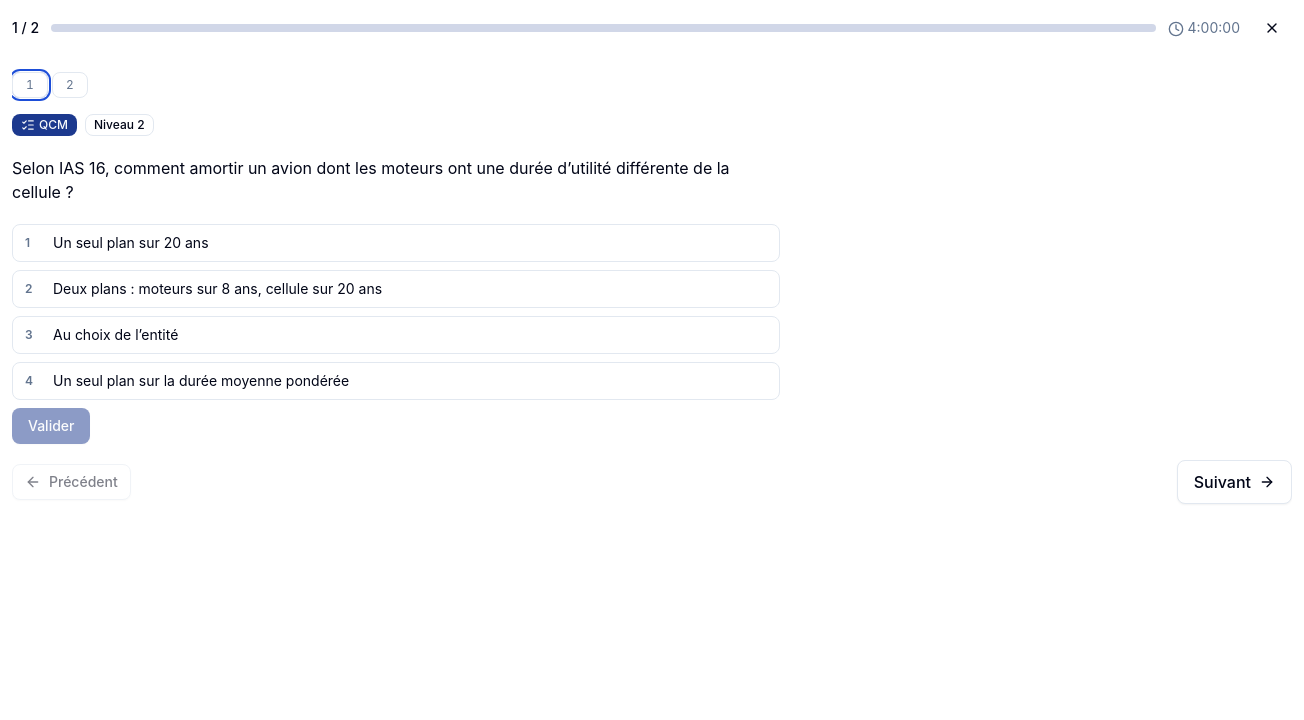
Test: SessionPage › examen blanc : pas de correction pendant l’épreuve, note sur 20 et correction à la fin
Expected: the element named "Temps restant" reads "4:00:00", x1=1188 y1=19 x2=1240 y2=36
Click the radio button labelled "2 Deux plans : moteurs sur 8 ans, cellule sur 20 ans": {"x": 218, "y": 288} x1=12 y1=270 x2=780 y2=308
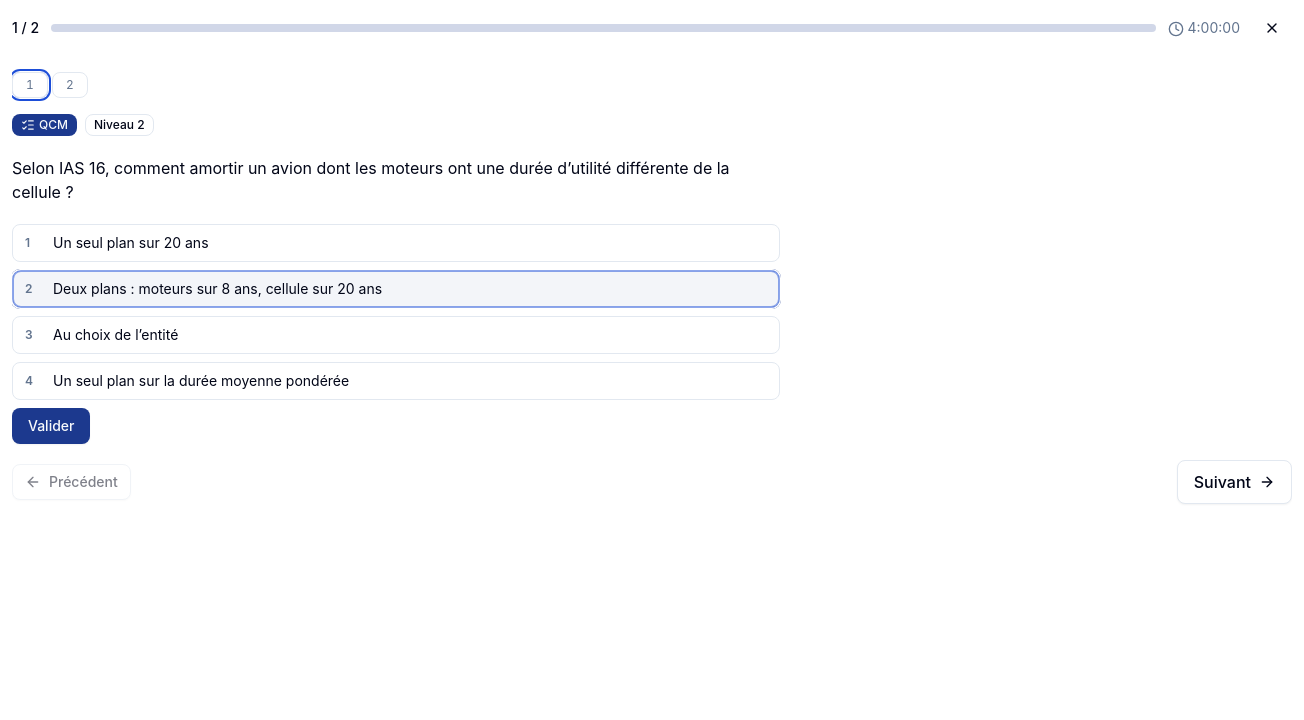
Click the button "Valider": {"x": 51, "y": 426} x1=12 y1=408 x2=90 y2=444
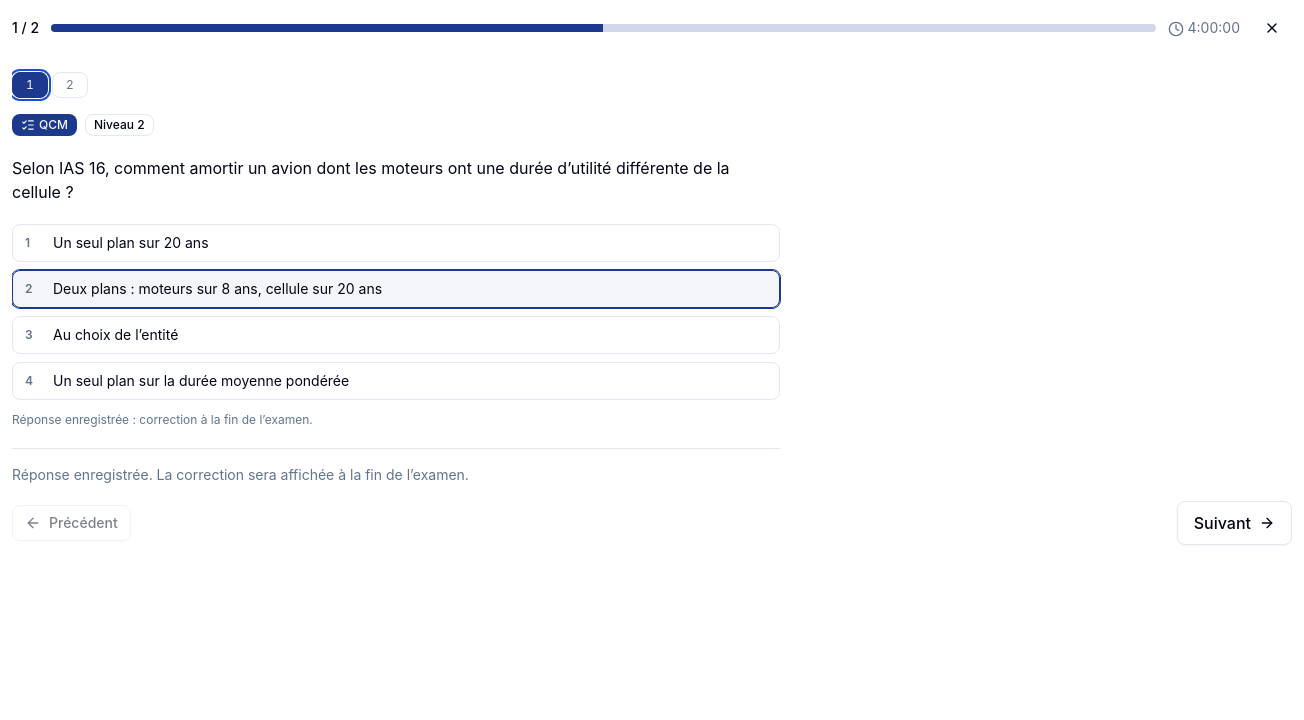
Click the button "Suivant": {"x": 1234, "y": 523} x1=1177 y1=501 x2=1292 y2=545
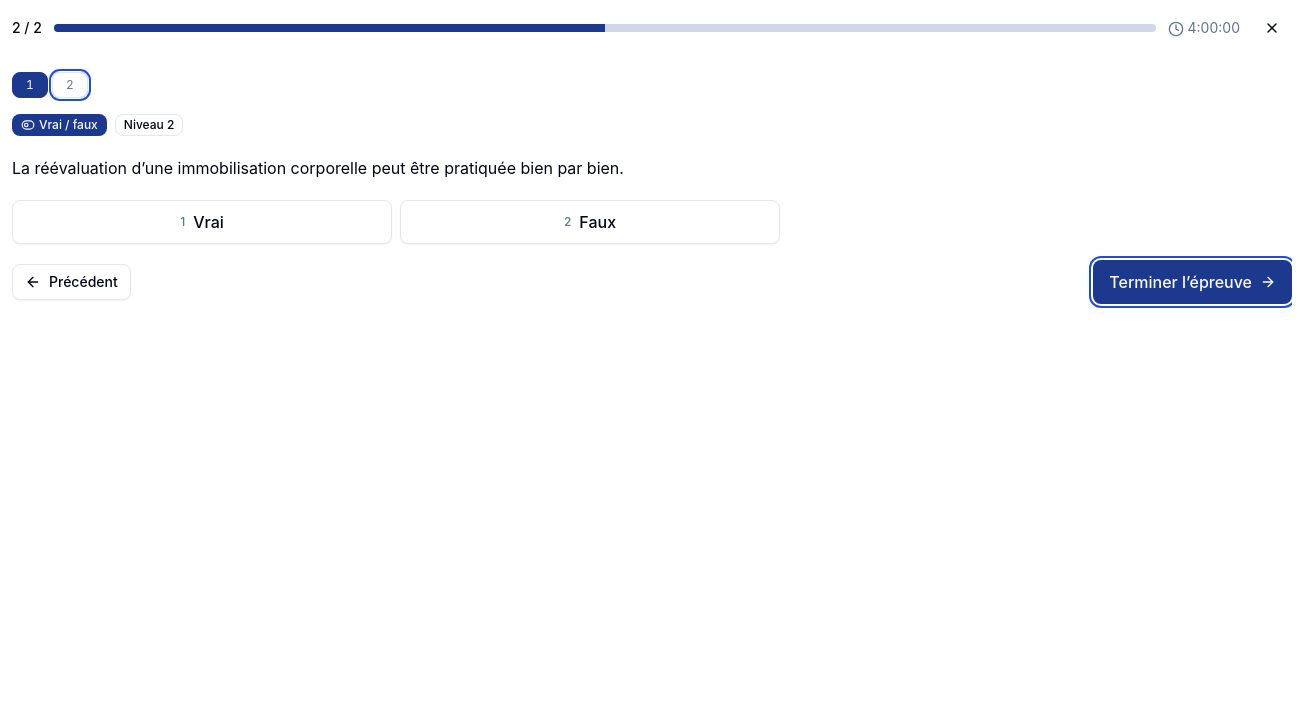
Click the button "2 Faux": {"x": 590, "y": 222} x1=400 y1=200 x2=780 y2=244
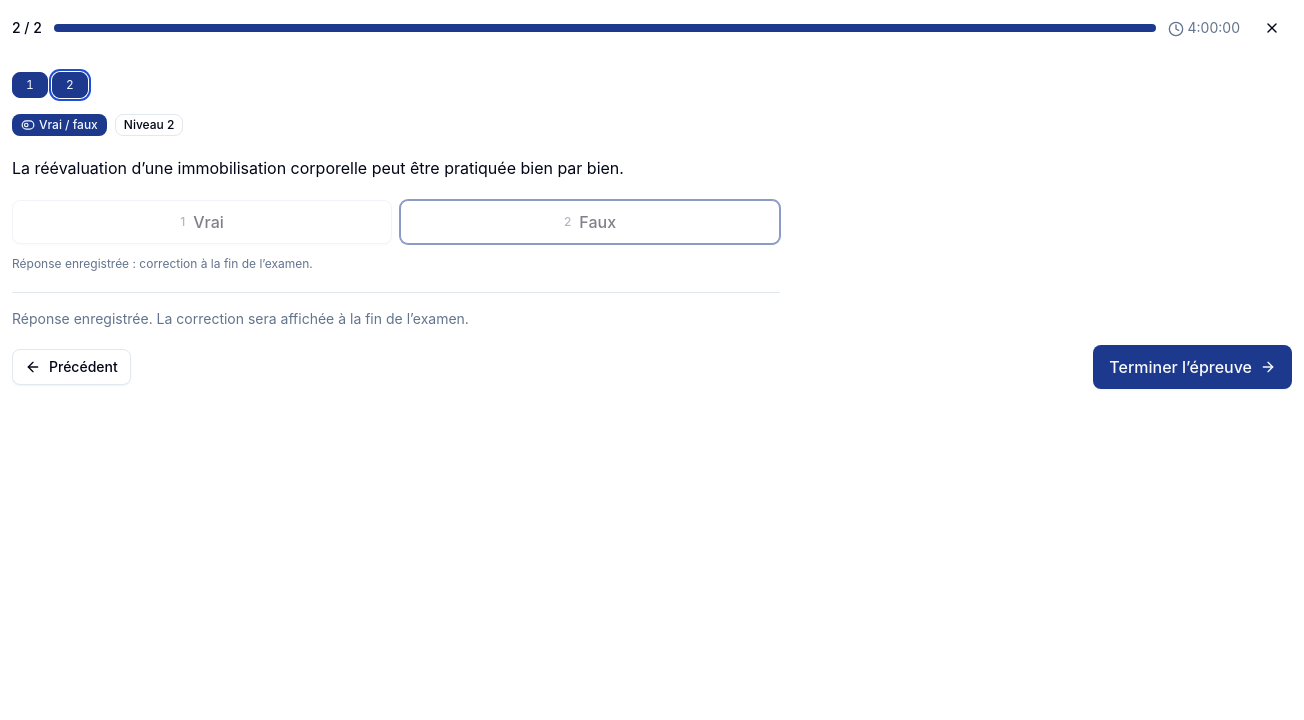
Click the button "Terminer l’épreuve": {"x": 1193, "y": 367} x1=1093 y1=345 x2=1292 y2=389
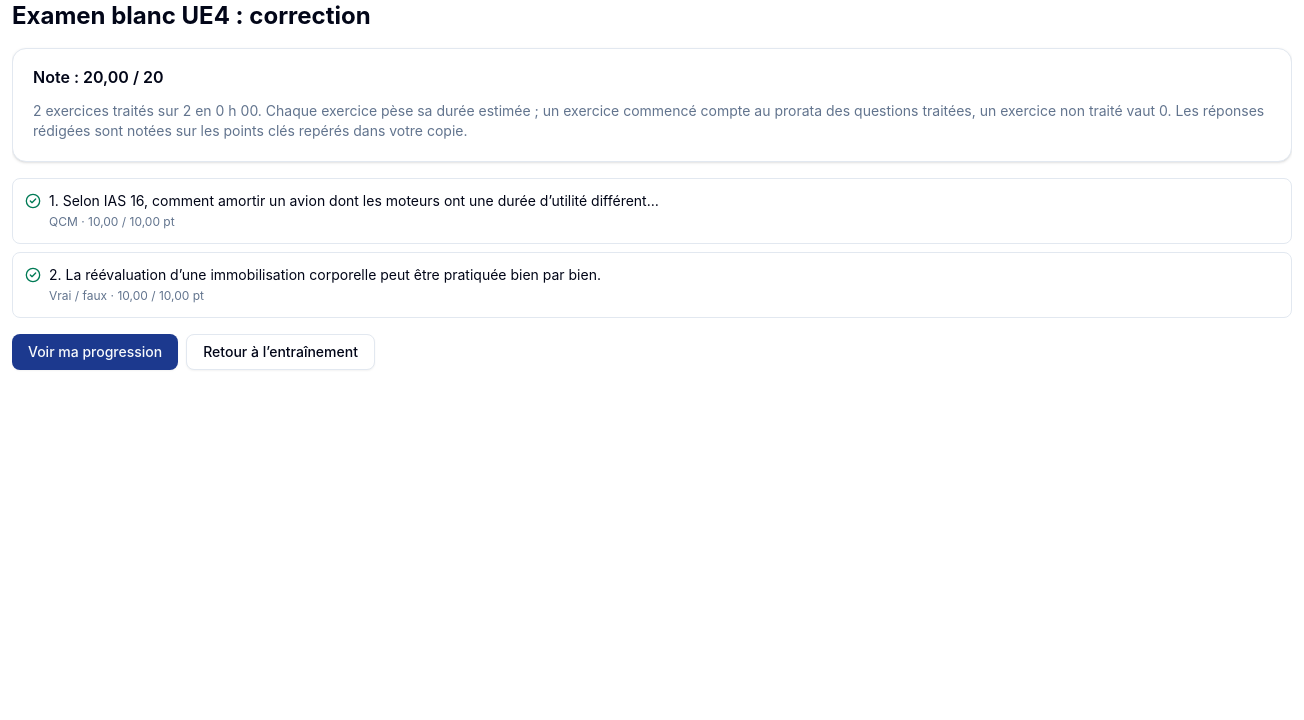
Expected: the heading "Examen blanc UE4 : correction" is shown, x1=12 y1=1 x2=371 y2=30
Expected: the text "Note : 20,00 / 20" is shown, x1=33 y1=67 x2=164 y2=87
